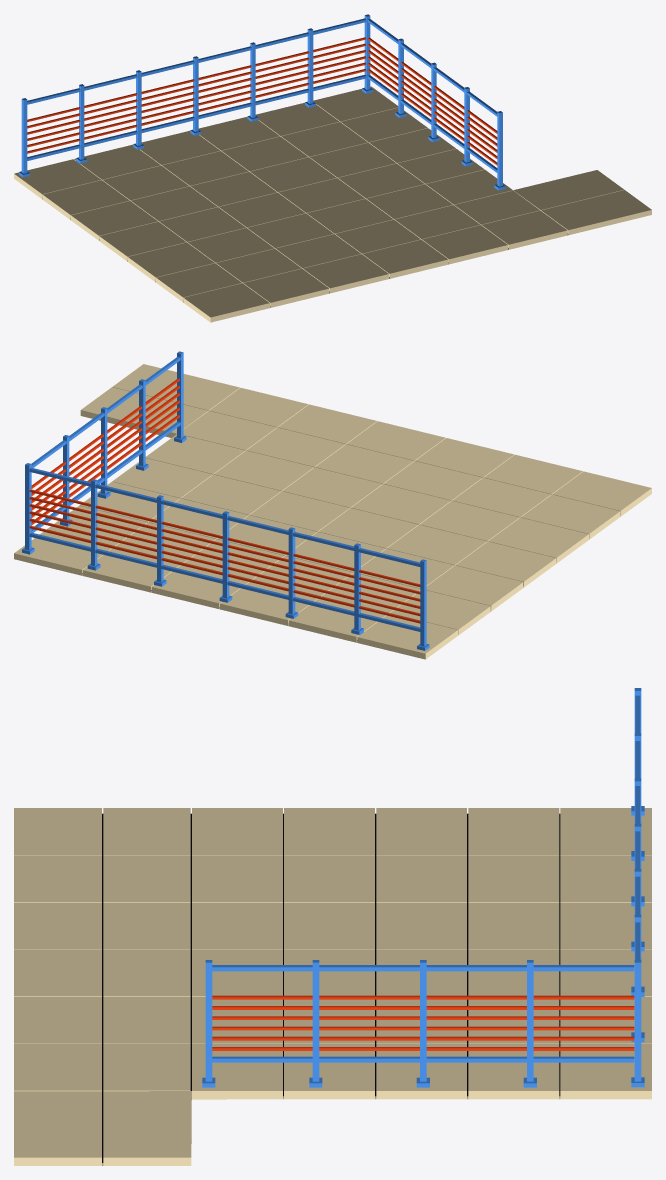
File: Second Floor.fbx
3 views of the same model, one above another, from view 1: azimuth 30°, elevation 25°; view 2: azimuth 150°, elevation 25°; view 3: azimuth 270°, elevation 25° (orthographic). The views are drawn at different scales.
Visible parts, largest first — view 1: Node 0; view 2: Node 0; view 3: Node 0.
Part boxes in pixels (bbox=[...]): Node 0: bbox=[14, 14, 651, 322]; Node 0: bbox=[14, 351, 651, 659]; Node 0: bbox=[14, 688, 651, 1165].
Bounding box in the file's own units: 3.95 × 0.9011 × 5.12.
